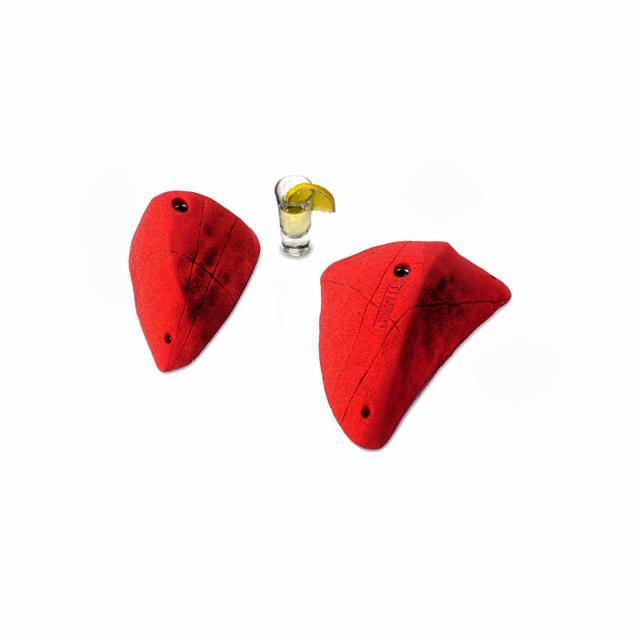Hold: (316, 238, 512, 452), (124, 187, 264, 374)
